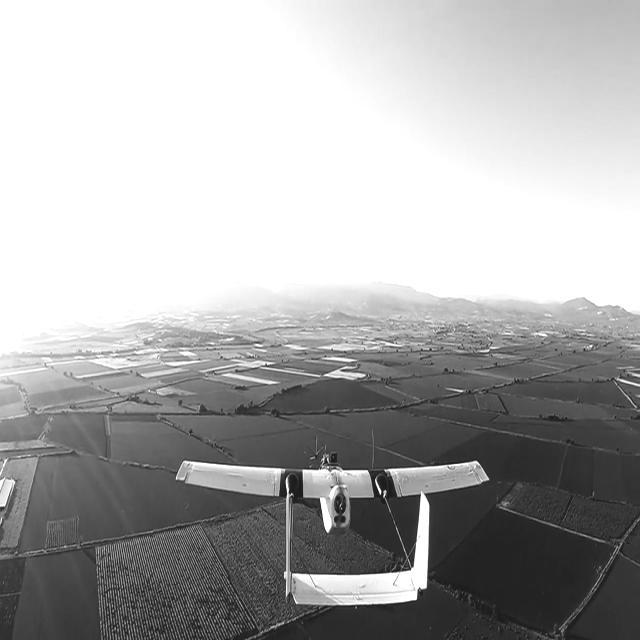iha: (157, 449, 492, 613)
